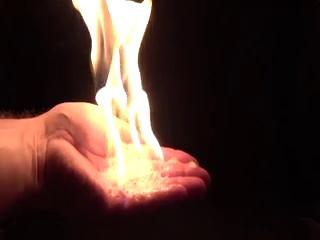Fire: (70, 1, 151, 178)
